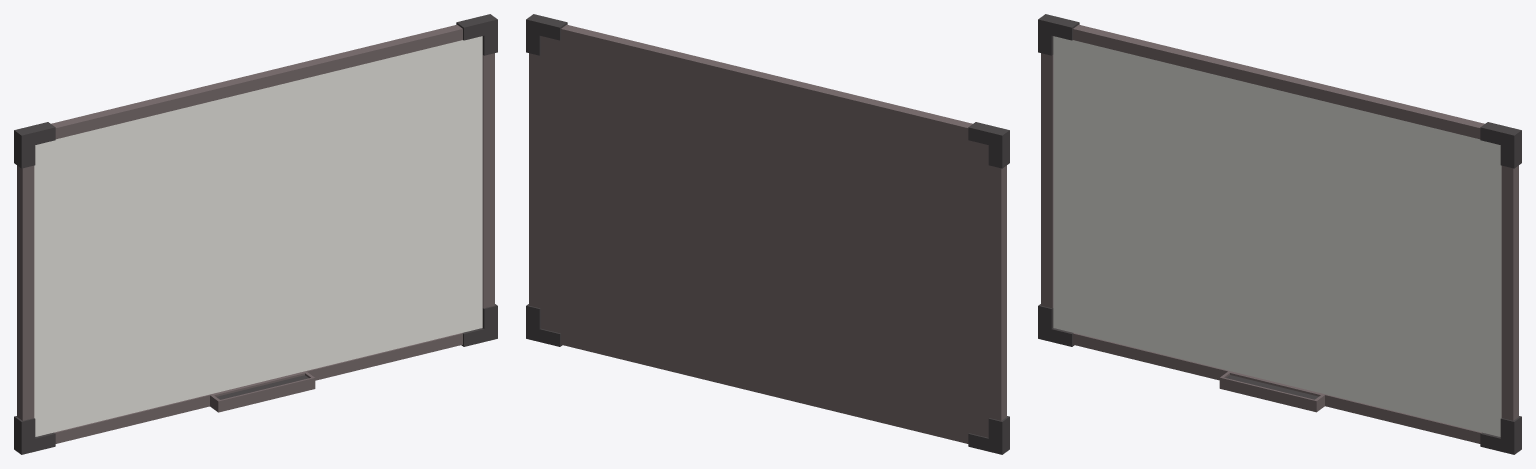
File: SM_White_board_1_01.fbx
3 views of the same model, side by side, from view 1: azimuth 30°, elevation 25°; view 2: azimuth 150°, elevation 25°; view 3: azimuth 330°, elevation 25° (orthographic).
Visible parts, largest first — view 1: SM_White_board_1_01; view 2: SM_White_board_1_01; view 3: SM_White_board_1_01.
Boxes of the visible parts, x1=… form: SM_White_board_1_01: x1=14, y1=14, x2=497, y2=454; SM_White_board_1_01: x1=526, y1=14, x2=1009, y2=454; SM_White_board_1_01: x1=1038, y1=14, x2=1521, y2=454.
Size of the model in its own units: 150 by 96.05 by 8.2.
